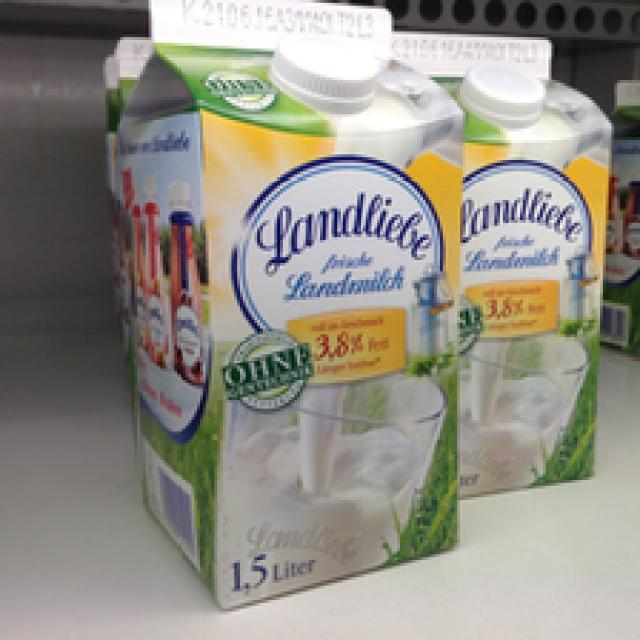groceries: (100, 0, 466, 606), (397, 32, 612, 494)
